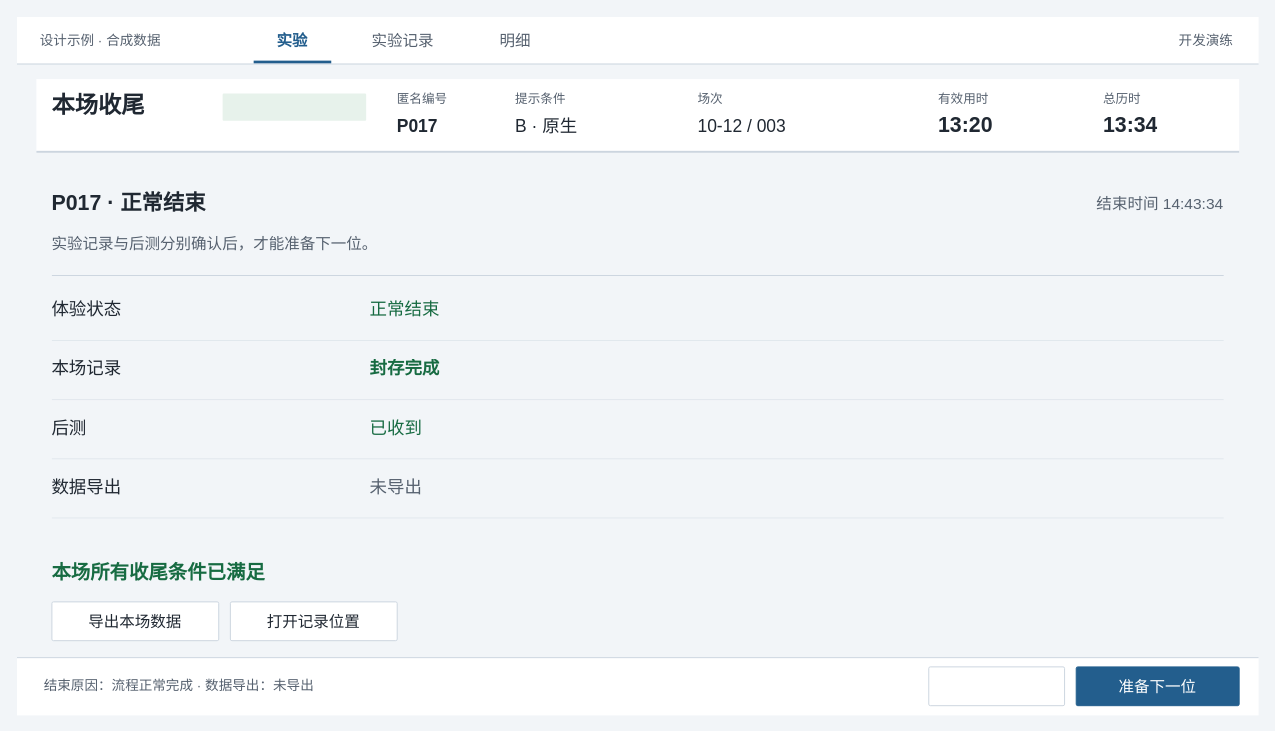
Some shapes in this 1275 by 731 pixel diagram are drawn without their labels. The centre of each missing label's shape, as x and y in pixels:
"收尾完成" belongs at point 294,106.
"返回主页" belongs at point 996,686.
